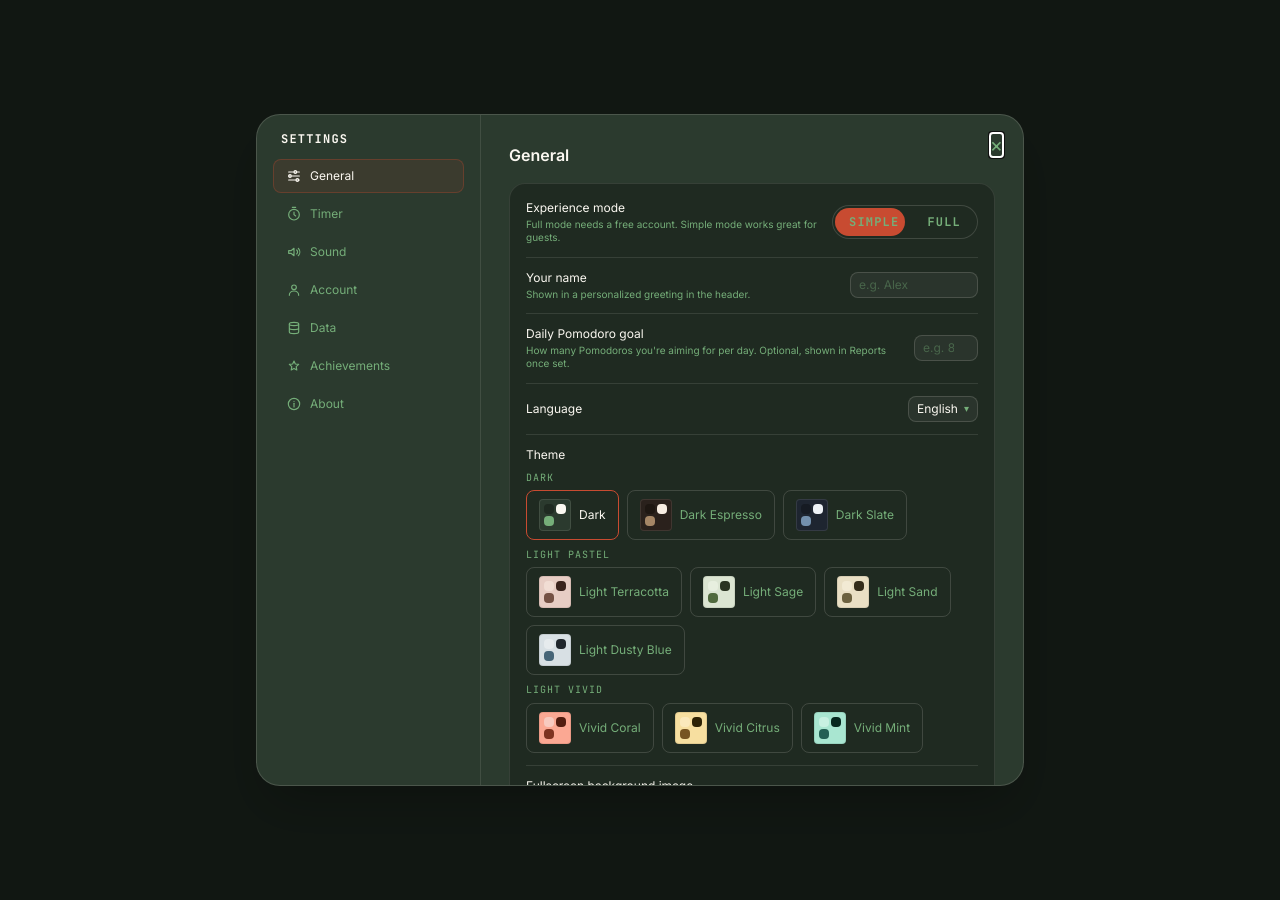
Scenario: SettingsModal Account category › shows Change Password for an account linked to both Google and email
The width and height of the screenshot is (1280, 900).
Click the button "Account". click: (368, 290)
box: top-left (273, 273), bottom-right (464, 307)
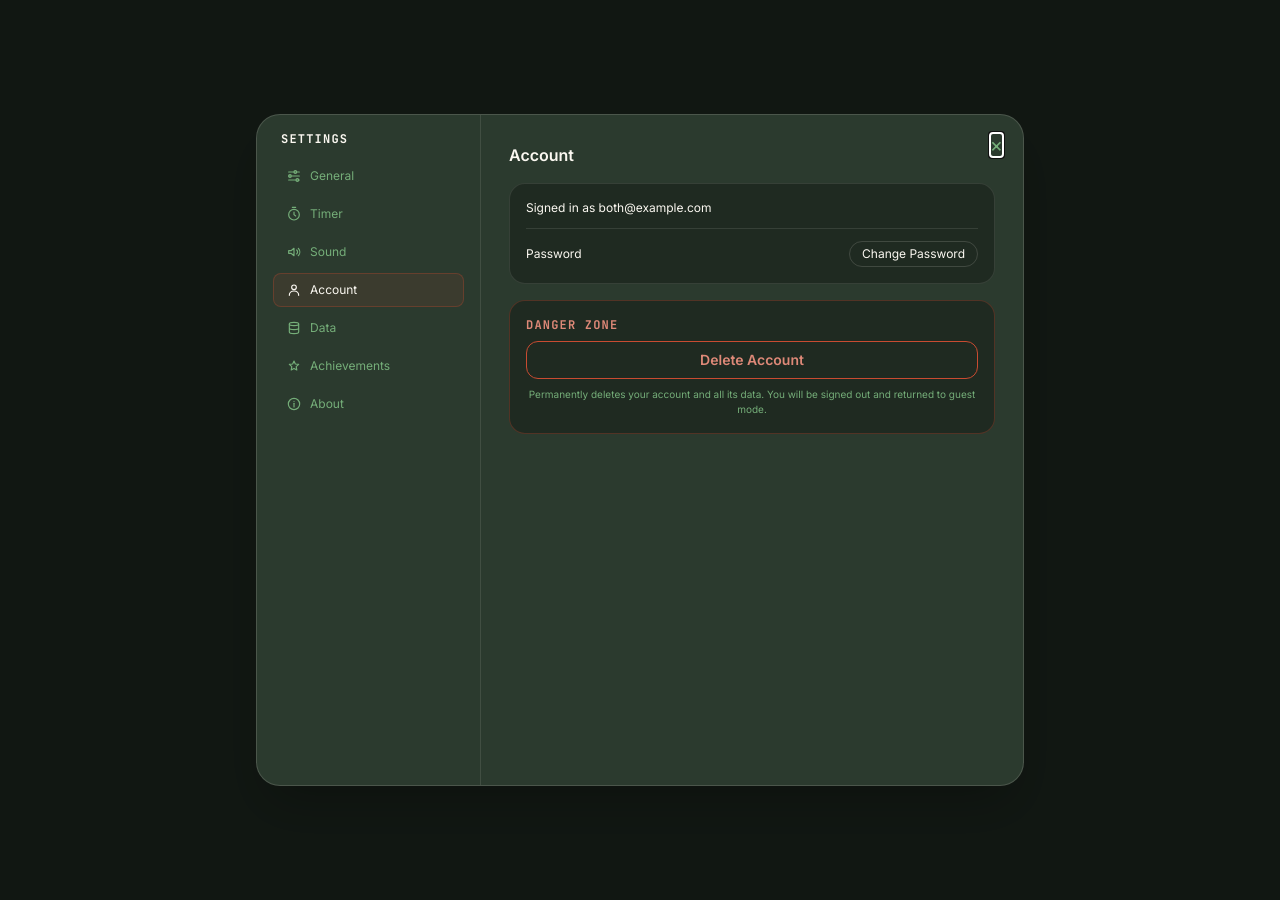
Check: the button "Change Password" is shown, box top-left (849, 241), bottom-right (978, 267)
